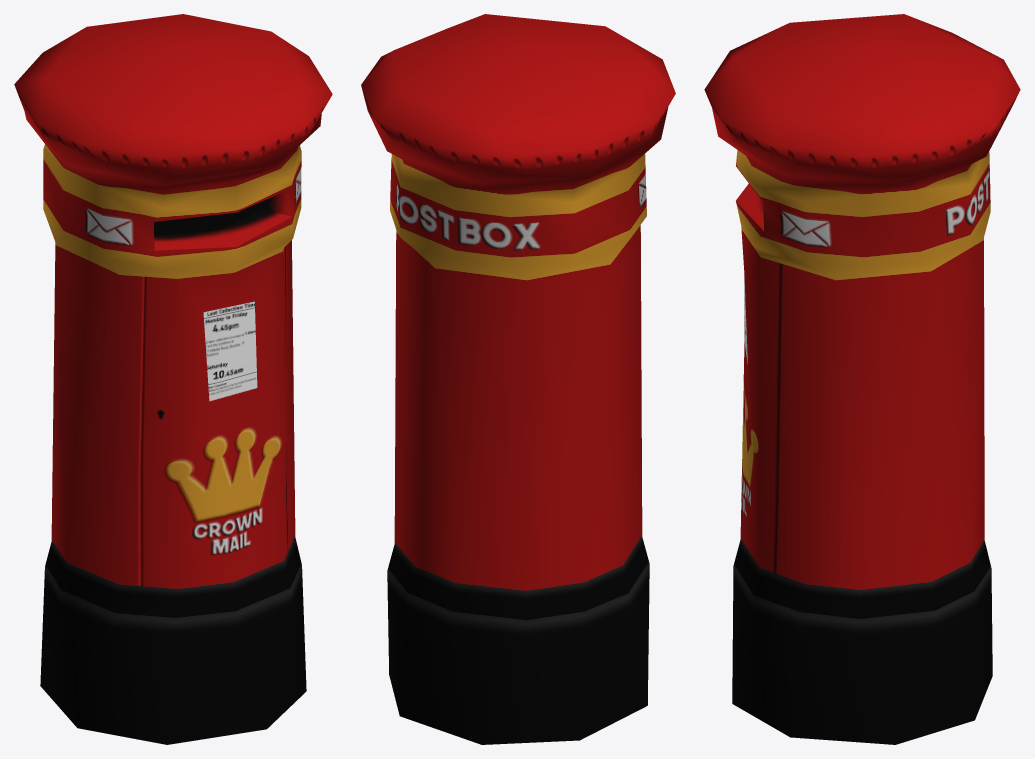
The model's file is mail box.fbx.
3 renders of one model, left to right at view 1: azimuth 30°, elevation 25°; view 2: azimuth 150°, elevation 25°; view 3: azimuth 270°, elevation 25°, orthographic.
Visible parts, largest first — view 1: _gltfNode_0; view 2: _gltfNode_0; view 3: _gltfNode_0.
Part boxes in pixels (<box>): _gltfNode_0: <box>14,14,332,744</box>; _gltfNode_0: <box>361,14,675,744</box>; _gltfNode_0: <box>704,14,1020,744</box>.
Bounding box in the file's own units: 34.44 × 77.66 × 34.48.
Materials: 1 (1 with a texture image).
